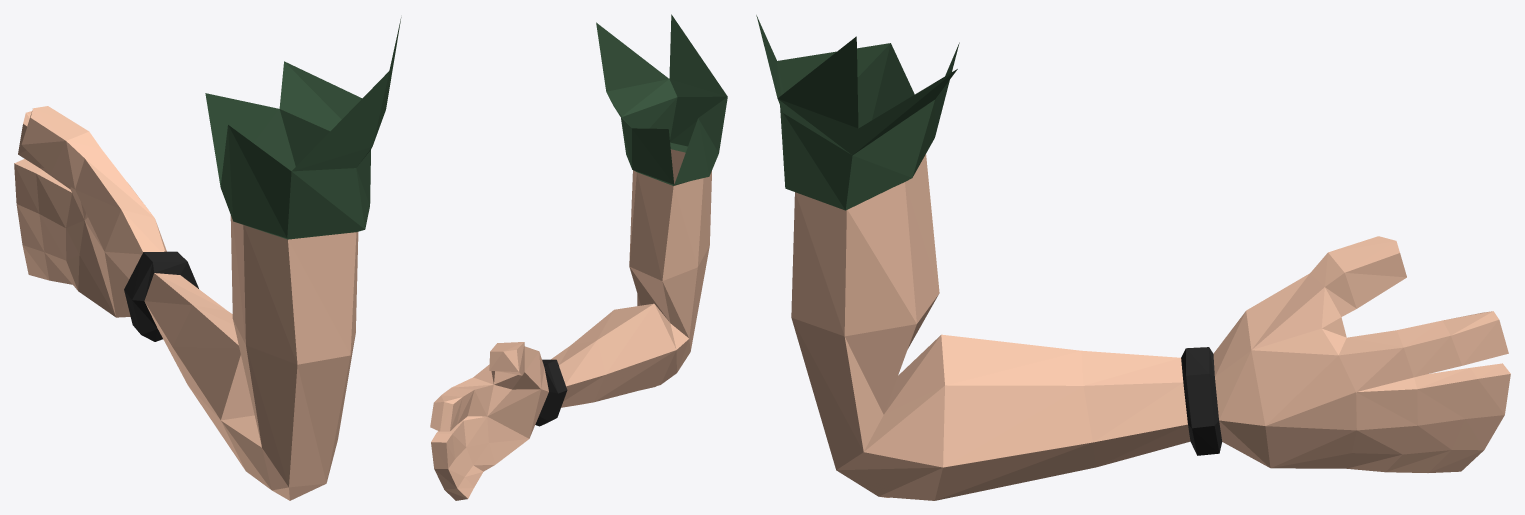
File: ShopKeeper_01_ArmR_96_01_A.obj
3 renders of one model, left to right at view 1: azimuth 30°, elevation 25°; view 2: azimuth 150°, elevation 25°; view 3: azimuth 270°, elevation 25°, orthographic. The views are drawn at different scales.
Parts seen in each view (by area): view 1: ShopKeeper_01_ArmR_96_01_A; view 2: ShopKeeper_01_ArmR_96_01_A; view 3: ShopKeeper_01_ArmR_96_01_A.
Boxes of the visible parts, x1,y1,x2,y2 form: ShopKeeper_01_ArmR_96_01_A: [14, 17, 401, 500]; ShopKeeper_01_ArmR_96_01_A: [430, 14, 727, 500]; ShopKeeper_01_ArmR_96_01_A: [756, 15, 1510, 500].
Size of the model in its own units: 0.1602 by 0.4443 by 0.5919.
1 material, 1 textured.
